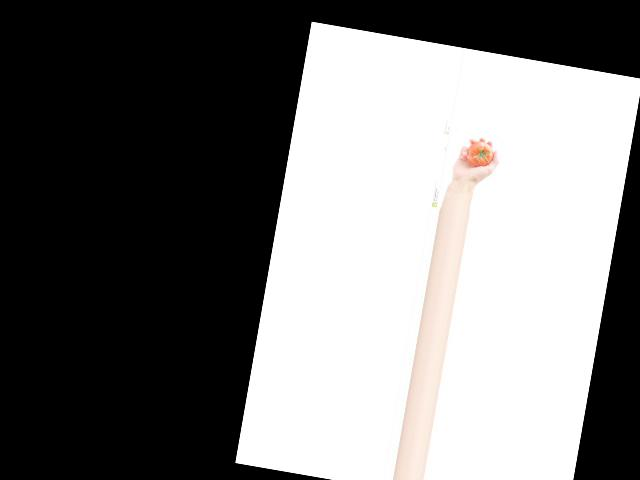tomato: (464, 139, 494, 168)
